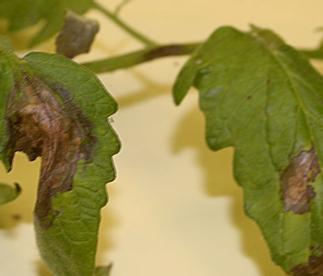Tomato leaf late blight: (168, 0, 323, 276), (0, 43, 134, 276)
